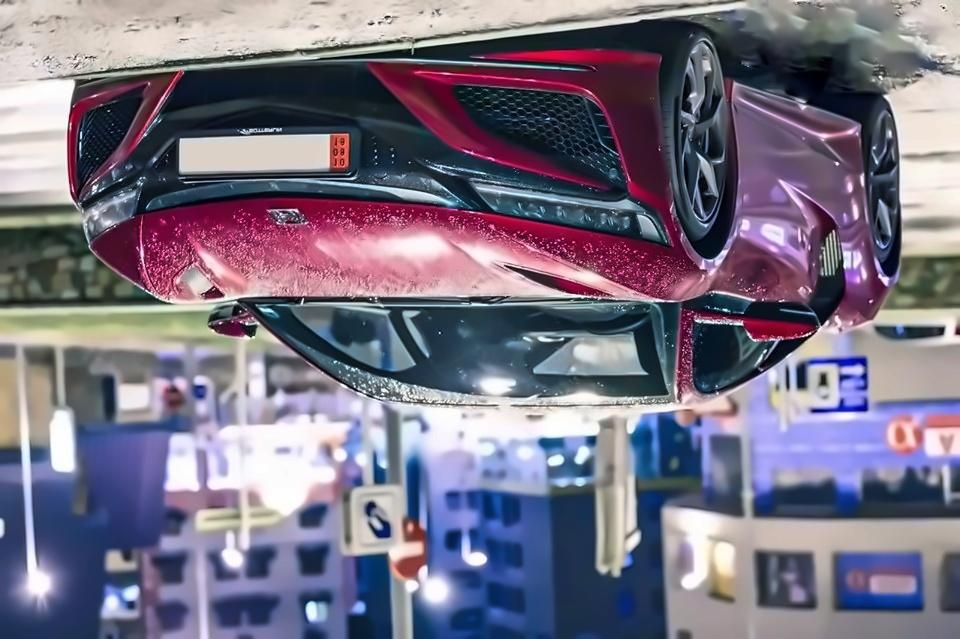Car hood: (51, 196, 706, 304)
Driver-s door - -F-R-: (676, 41, 856, 414)
Fender - -F-R-: (637, 140, 747, 372)
Front bumper: (66, 28, 682, 236)
Headlight - -L-: (83, 181, 144, 249)
Headlight - -R-: (469, 180, 671, 247)
Side bumper - -R-: (719, 76, 868, 182)
Side mirror - -L-: (208, 295, 259, 343)
Side mirror - -R-: (691, 297, 823, 342)
